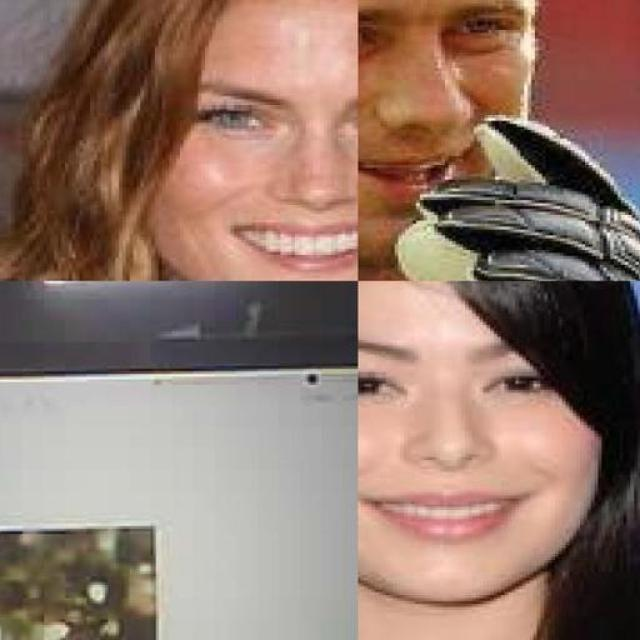bareface: (362, 291, 586, 587)
